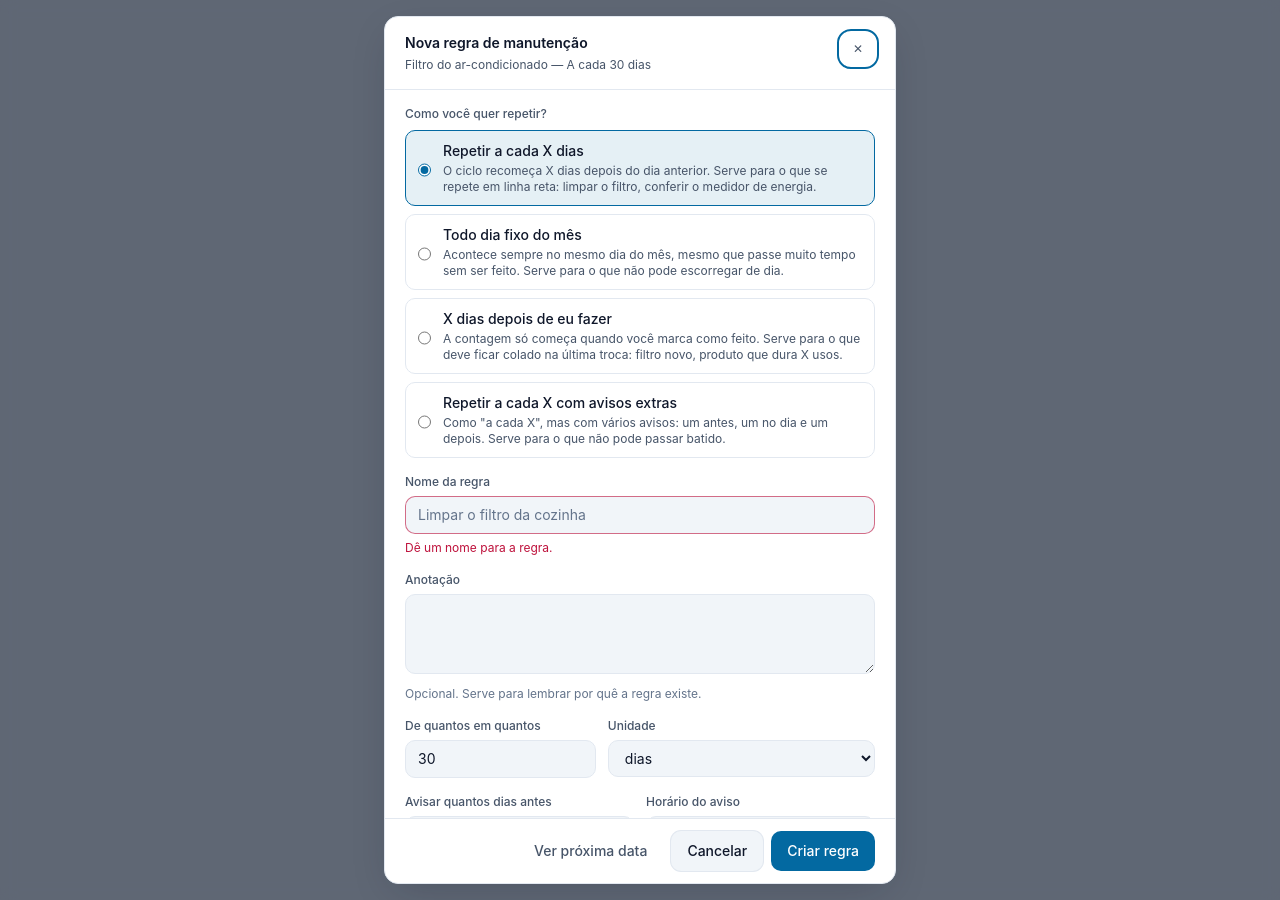
Scenario: TriggerBuilderModal › mostra a data que o backend calculou, sem inventar a sua
The image size is (1280, 900).
Click the button "Ver próxima data" at (591, 851), box [518,831,663,871]
(page scrolled)
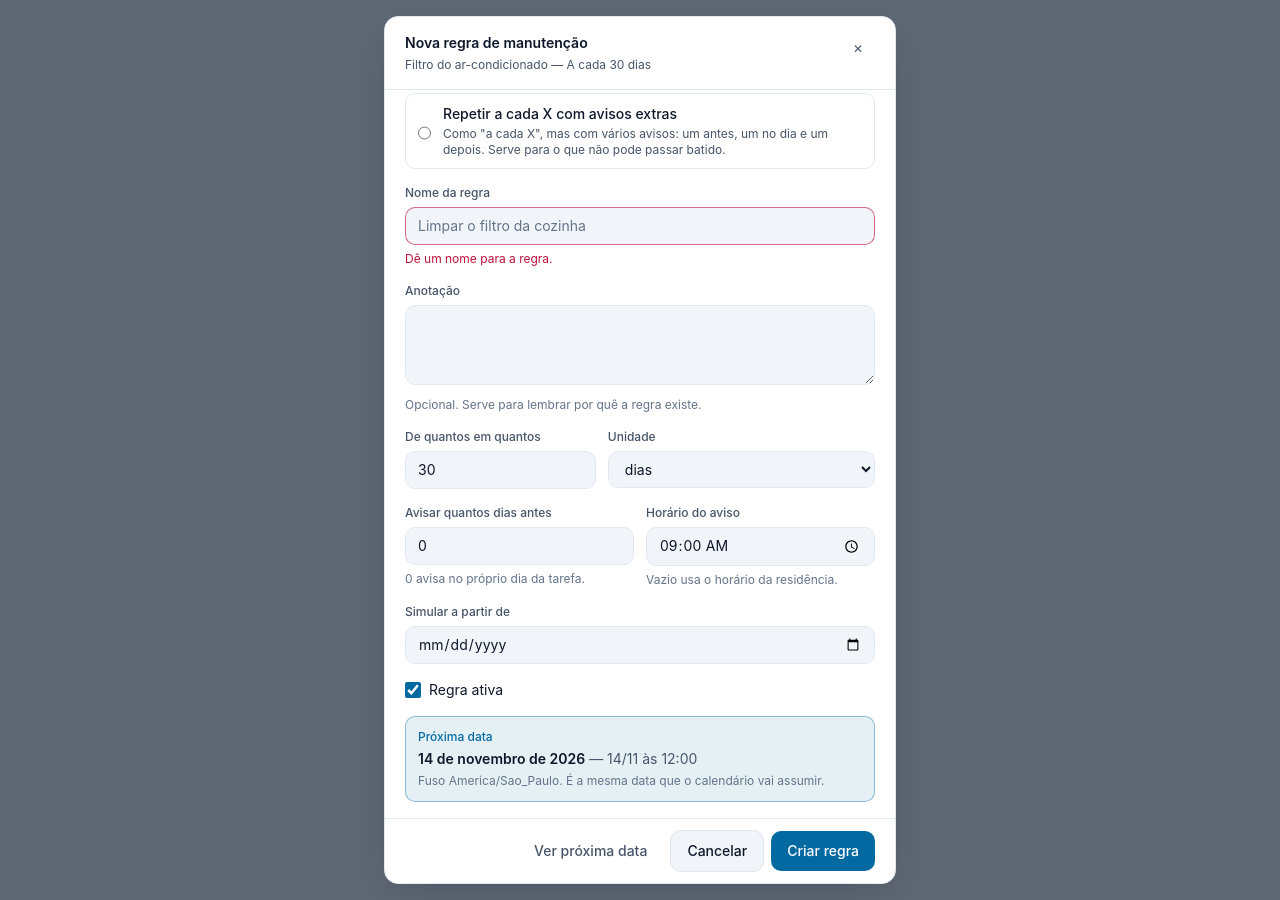
Check: the message with test id "trigger-preview" shows "14 de novembro de 2026", box [418,750,585,767]
Check: the message with test id "trigger-preview" shows "America/Sao_Paulo", box [449,773,559,788]
